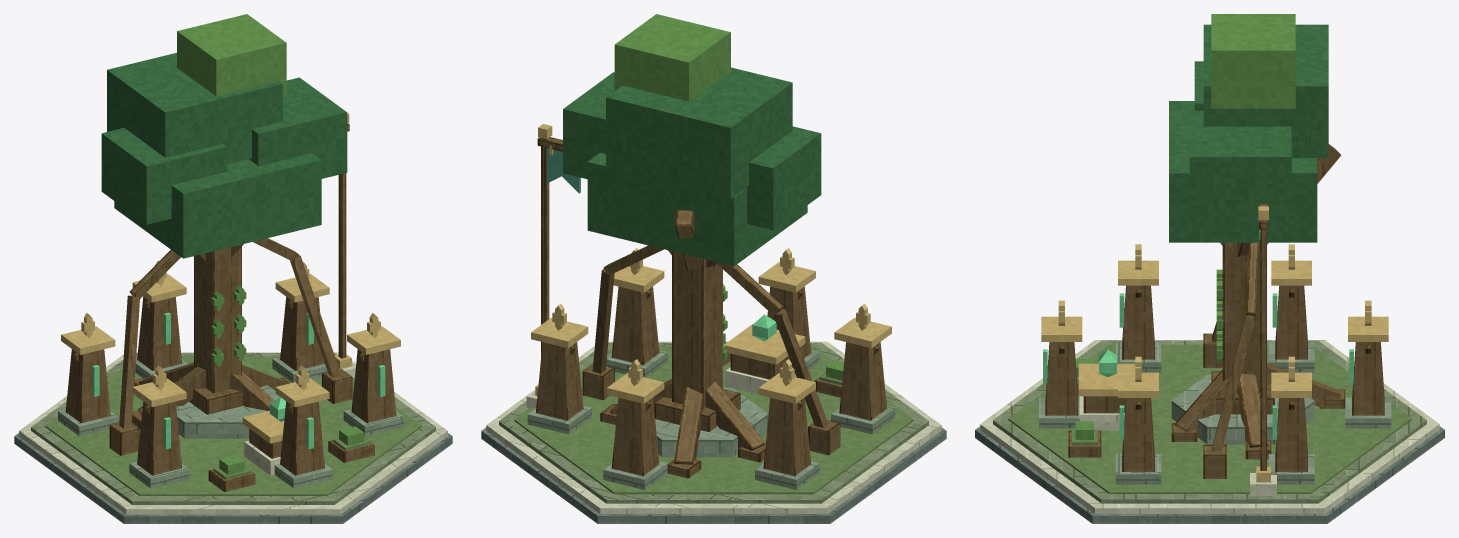
File: elf_druidic_ritual_hex_v1.glb
3 views of the same model, side by side, from view 1: azimuth 30°, elevation 25°; view 2: azimuth 150°, elevation 25°; view 3: azimuth 270°, elevation 25° (orthographic). The views are drawn at different scales.
Parts seen in each view (by area): view 1: Elf_Druidic_Ritual_Hex_V1_Focus, Elf_Druidic_Ritual_Hex_V1_Hall, Elf_Druidic_Ritual_Hex_V1_Foundation, Elf_Druidic_Ritual_Hex_V1_Courtyard, Elf_Druidic_Ritual_Hex_V1_Details, Elf_Druidic_Ritual_Hex_V1_Roofs, Elf_Druidic_Ritual_Hex_V1_Training, Elf_Druidic_Ritual_Hex_V1_Faction; view 2: Elf_Druidic_Ritual_Hex_V1_Focus, Elf_Druidic_Ritual_Hex_V1_Hall, Elf_Druidic_Ritual_Hex_V1_Foundation, Elf_Druidic_Ritual_Hex_V1_Courtyard, Elf_Druidic_Ritual_Hex_V1_Details, Elf_Druidic_Ritual_Hex_V1_Roofs, Elf_Druidic_Ritual_Hex_V1_Training, Elf_Druidic_Ritual_Hex_V1_Faction; view 3: Elf_Druidic_Ritual_Hex_V1_Focus, Elf_Druidic_Ritual_Hex_V1_Foundation, Elf_Druidic_Ritual_Hex_V1_Hall, Elf_Druidic_Ritual_Hex_V1_Courtyard, Elf_Druidic_Ritual_Hex_V1_Roofs, Elf_Druidic_Ritual_Hex_V1_Details, Elf_Druidic_Ritual_Hex_V1_Training, Elf_Druidic_Ritual_Hex_V1_Faction.
Boxes of the visible parts, left/top/right/bottom form: Elf_Druidic_Ritual_Hex_V1_Focus: left=92, top=14, right=385, bottom=449; Elf_Druidic_Ritual_Hex_V1_Hall: left=58, top=297, right=404, bottom=488; Elf_Druidic_Ritual_Hex_V1_Foundation: left=14, top=352, right=452, bottom=523; Elf_Druidic_Ritual_Hex_V1_Courtyard: left=45, top=356, right=421, bottom=495; Elf_Druidic_Ritual_Hex_V1_Details: left=81, top=238, right=380, bottom=455; Elf_Druidic_Ritual_Hex_V1_Roofs: left=61, top=274, right=400, bottom=407; Elf_Druidic_Ritual_Hex_V1_Training: left=208, top=410, right=374, bottom=491; Elf_Druidic_Ritual_Hex_V1_Faction: left=335, top=113, right=355, bottom=377; Elf_Druidic_Ritual_Hex_V1_Focus: left=563, top=14, right=821, bottom=478; Elf_Druidic_Ritual_Hex_V1_Hall: left=527, top=286, right=895, bottom=489; Elf_Druidic_Ritual_Hex_V1_Foundation: left=481, top=341, right=946, bottom=523; Elf_Druidic_Ritual_Hex_V1_Courtyard: left=514, top=346, right=913, bottom=494; Elf_Druidic_Ritual_Hex_V1_Details: left=552, top=245, right=870, bottom=455; Elf_Druidic_Ritual_Hex_V1_Roofs: left=531, top=262, right=891, bottom=403; Elf_Druidic_Ritual_Hex_V1_Training: left=723, top=324, right=843, bottom=397; Elf_Druidic_Ritual_Hex_V1_Faction: left=526, top=124, right=580, bottom=408; Elf_Druidic_Ritual_Hex_V1_Focus: left=1043, top=14, right=1353, bottom=459; Elf_Druidic_Ritual_Hex_V1_Foundation: left=975, top=340, right=1444, bottom=523; Elf_Druidic_Ritual_Hex_V1_Hall: left=1039, top=285, right=1391, bottom=484; Elf_Druidic_Ritual_Hex_V1_Courtyard: left=1008, top=344, right=1411, bottom=493; Elf_Druidic_Ritual_Hex_V1_Roofs: left=1041, top=260, right=1388, bottom=397; Elf_Druidic_Ritual_Hex_V1_Details: left=1058, top=242, right=1371, bottom=478; Elf_Druidic_Ritual_Hex_V1_Training: left=1068, top=359, right=1135, bottom=457; Elf_Druidic_Ritual_Hex_V1_Faction: left=1250, top=204, right=1276, bottom=495.
Size of the model in its own units: 1.59 by 1.79 by 1.84.
Materials: 1 (1 with a texture image).
